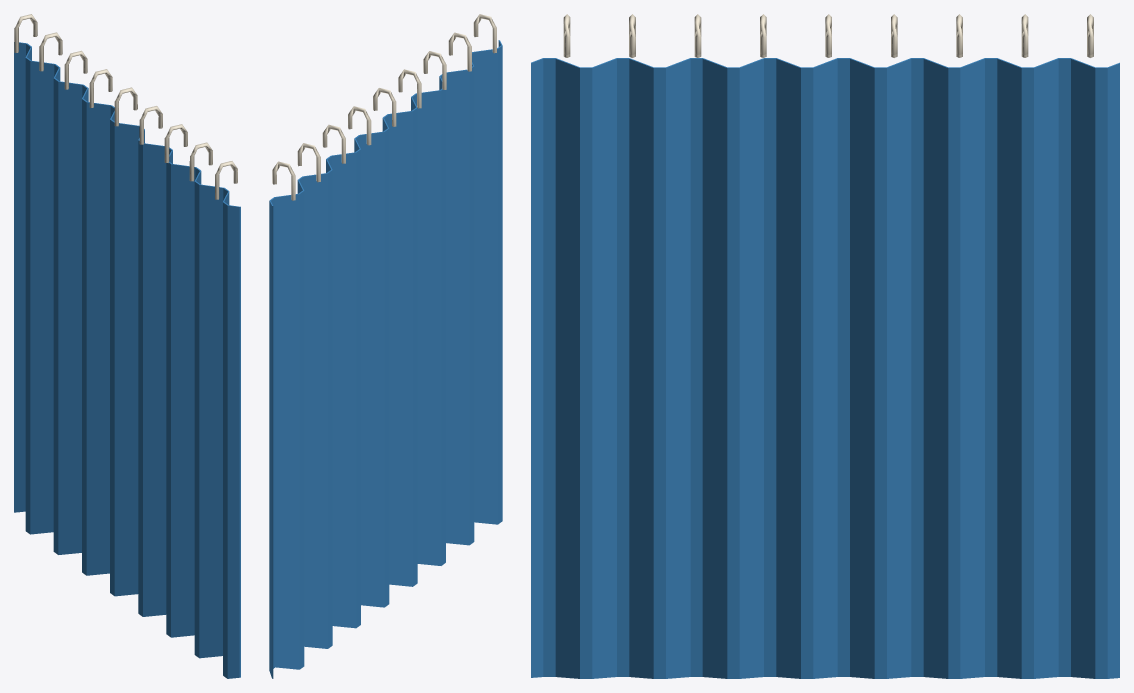
Rendered from Recovery_Curtain_PartClosed_Left.glb.
3 views of the same model, side by side, from view 1: azimuth 30°, elevation 25°; view 2: azimuth 150°, elevation 25°; view 3: azimuth 270°, elevation 25° (orthographic). The views are drawn at different scales.
Parts seen in each view (by area): view 1: Recovery_Curtain_PartClosed_Left__Visual; view 2: Recovery_Curtain_PartClosed_Left__Visual; view 3: Recovery_Curtain_PartClosed_Left__Visual.
Boxes of the visible parts, x1=… form: Recovery_Curtain_PartClosed_Left__Visual: x1=14, y1=14, x2=240, y2=678; Recovery_Curtain_PartClosed_Left__Visual: x1=269, y1=14, x2=502, y2=678; Recovery_Curtain_PartClosed_Left__Visual: x1=531, y1=14, x2=1119, y2=678.
Size of the model in its own units: 0.104 by 2.18 by 1.75.
Materials: 1 (1 with a texture image).
